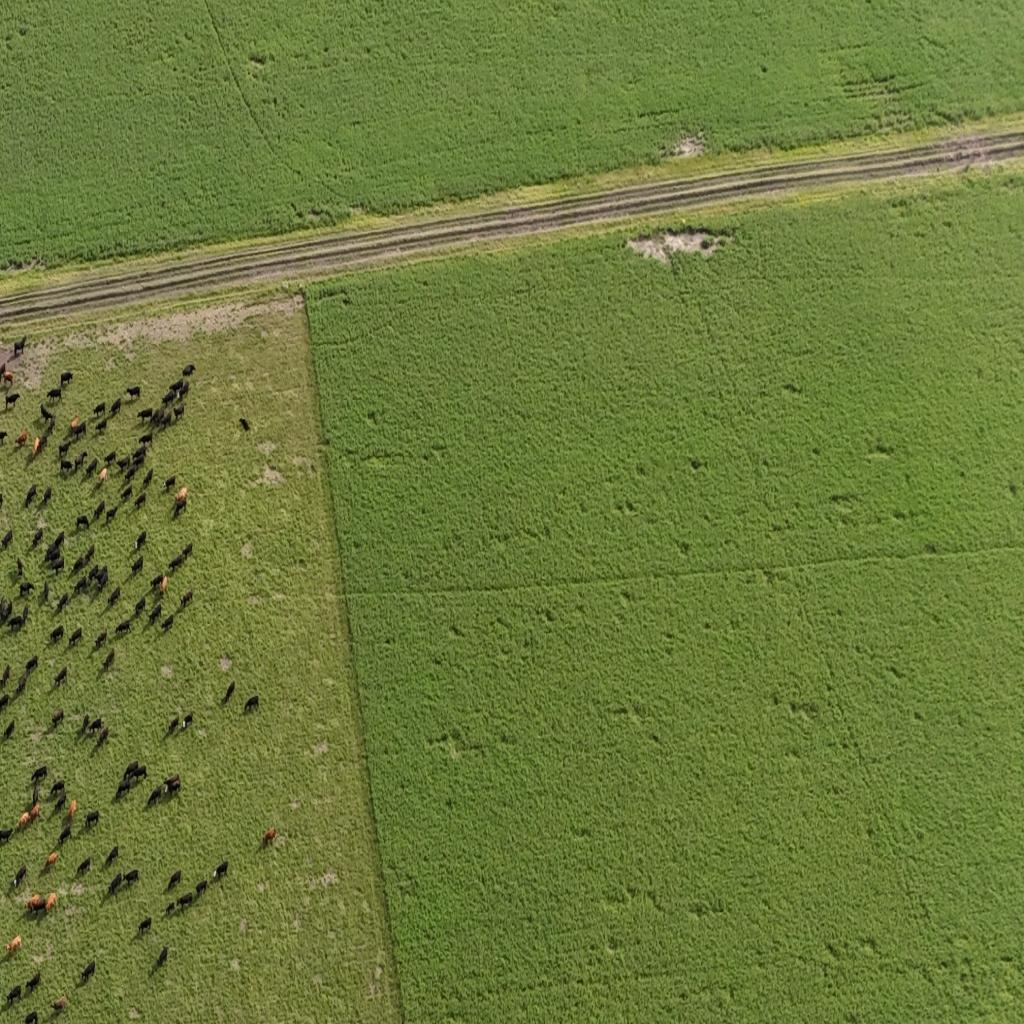cow: (243, 690, 260, 721), (6, 610, 26, 635), (77, 542, 95, 568), (72, 573, 90, 598), (162, 774, 181, 797), (80, 958, 96, 985), (175, 891, 194, 913), (25, 970, 42, 994), (106, 871, 122, 896), (168, 552, 187, 573), (30, 526, 46, 550), (48, 779, 66, 800), (212, 860, 229, 882), (5, 933, 22, 955), (6, 983, 22, 1006), (130, 554, 146, 577), (100, 648, 114, 674), (94, 726, 109, 750), (115, 778, 130, 802), (0, 595, 12, 625), (25, 892, 42, 913), (146, 786, 162, 808), (40, 405, 56, 427), (154, 945, 168, 970), (13, 864, 27, 889), (57, 825, 72, 848), (131, 764, 149, 783), (122, 869, 139, 889), (31, 764, 48, 784), (166, 714, 180, 738), (54, 665, 68, 689), (173, 496, 187, 520), (53, 790, 67, 814), (166, 870, 181, 892), (148, 605, 163, 627), (71, 554, 86, 576), (261, 829, 278, 848), (105, 845, 119, 868), (88, 716, 104, 736), (71, 420, 87, 440), (123, 759, 139, 779), (5, 391, 20, 412), (223, 680, 235, 706), (3, 718, 16, 742), (44, 851, 58, 873), (108, 397, 122, 419), (106, 587, 120, 609), (85, 458, 99, 480), (115, 617, 131, 636), (76, 857, 91, 877), (84, 810, 99, 830), (13, 336, 27, 357), (94, 629, 108, 650), (69, 627, 83, 648), (105, 505, 119, 526), (74, 451, 88, 472), (19, 581, 35, 599), (16, 672, 28, 696), (134, 531, 147, 553), (56, 592, 69, 614), (138, 916, 152, 936), (0, 828, 14, 848), (50, 625, 64, 645), (24, 656, 38, 676), (134, 490, 148, 510), (25, 485, 37, 508), (51, 996, 67, 1013), (137, 432, 153, 449), (94, 564, 111, 580), (47, 386, 62, 404), (75, 514, 90, 532), (116, 454, 131, 472), (45, 892, 57, 914), (79, 714, 91, 736), (38, 433, 50, 455), (98, 570, 110, 592), (181, 712, 194, 732), (180, 589, 193, 609), (134, 596, 147, 616), (0, 664, 10, 690), (58, 441, 71, 461), (52, 708, 64, 729), (59, 458, 73, 476), (1, 530, 13, 551), (119, 485, 133, 503), (162, 390, 176, 408), (52, 556, 66, 574), (160, 614, 173, 633), (195, 879, 207, 899), (137, 408, 153, 423), (18, 811, 30, 831), (93, 502, 105, 522), (162, 475, 176, 492), (0, 370, 14, 387), (150, 575, 164, 592), (175, 486, 188, 504), (42, 486, 52, 509), (60, 371, 74, 387), (150, 408, 163, 425), (142, 468, 153, 488), (181, 542, 193, 560), (179, 382, 191, 400), (166, 378, 184, 390), (126, 386, 140, 401), (123, 468, 137, 483), (88, 564, 99, 583), (93, 402, 106, 418), (132, 445, 148, 458), (172, 404, 184, 421), (165, 900, 177, 917), (31, 801, 41, 821), (0, 694, 10, 714), (161, 412, 172, 430), (24, 1010, 38, 1024), (134, 453, 148, 467), (16, 430, 28, 446), (69, 798, 77, 822), (96, 417, 108, 433), (42, 580, 50, 604), (32, 786, 40, 810), (104, 451, 116, 466), (48, 548, 63, 560), (55, 530, 66, 546), (182, 364, 195, 377), (99, 466, 108, 484), (160, 574, 168, 594), (22, 602, 30, 622), (239, 418, 250, 432), (70, 415, 79, 432), (33, 436, 40, 457), (17, 557, 24, 576), (0, 431, 8, 445), (47, 544, 57, 554)
